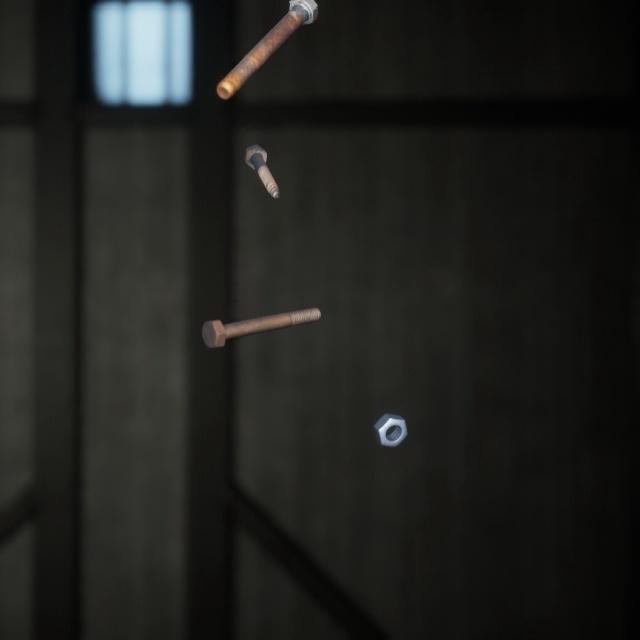bolt: (212, 0, 322, 93), (197, 284, 325, 333), (239, 125, 284, 187)
nut: (369, 389, 412, 432)
